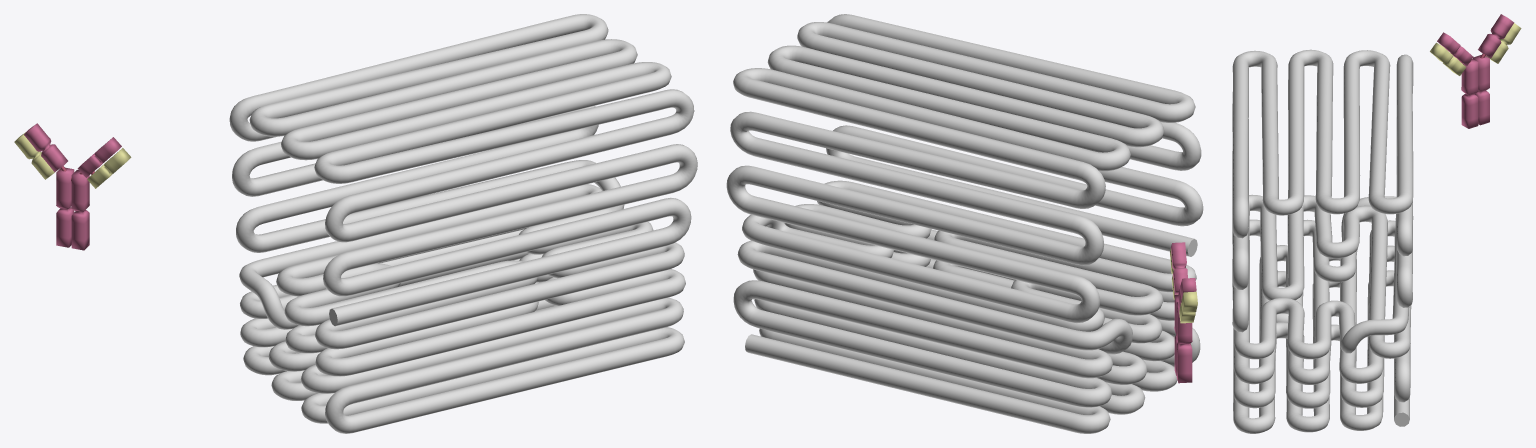
Rendered from box_for_website_2.glb.
3 renders of one model, left to right at view 1: azimuth 30°, elevation 25°; view 2: azimuth 150°, elevation 25°; view 3: azimuth 270°, elevation 25°, orthographic. The views are drawn at different scales.
Visible parts, largest first — view 1: main box, antibody; view 2: main box, antibody; view 3: main box, antibody.
Part boxes in pixels (bbox=[...]): main box: bbox=[229, 14, 697, 433]; antibody: bbox=[14, 123, 131, 250]; main box: bbox=[726, 14, 1203, 433]; antibody: bbox=[1170, 242, 1197, 383]; main box: bbox=[1232, 49, 1413, 433]; antibody: bbox=[1430, 14, 1521, 128].
Bounding box in the file's own units: 19.72 × 9.71 × 10.78.
